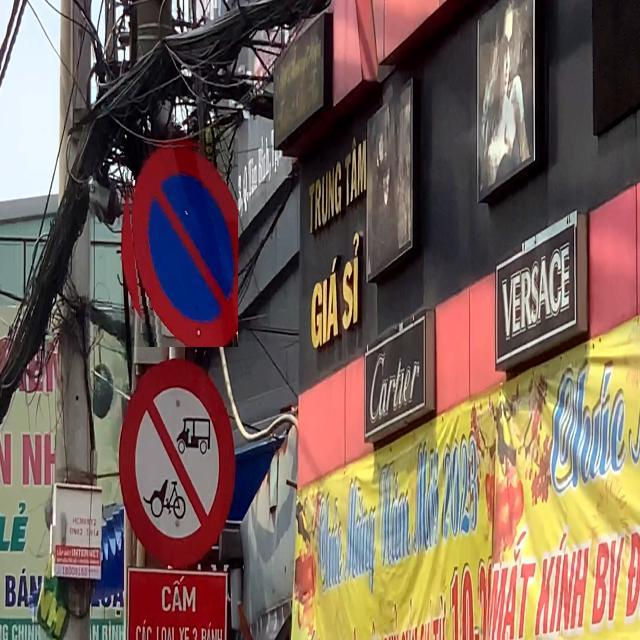P-131a: (121, 138, 238, 347)
